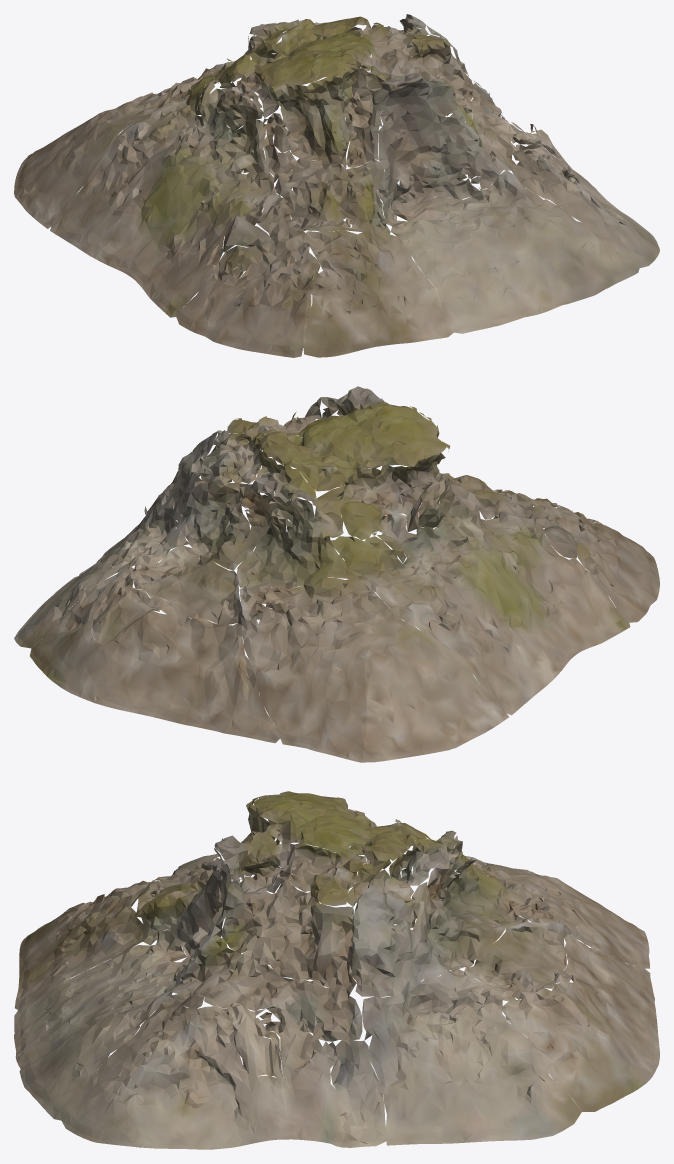
Rendered from tree_stump_01.glb.
3 renders of one model, top to bottom at view 1: azimuth 30°, elevation 25°; view 2: azimuth 150°, elevation 25°; view 3: azimuth 270°, elevation 25°, orthographic. The views are drawn at different scales.
Visible parts, largest first — view 1: geometry_0; view 2: geometry_0; view 3: geometry_0.
Part boxes in pixels (bbox=[...]): geometry_0: bbox=[14, 14, 659, 357]; geometry_0: bbox=[14, 386, 659, 762]; geometry_0: bbox=[14, 791, 659, 1149].
Size of the model in its own units: 1.42 by 0.5729 by 1.59.
